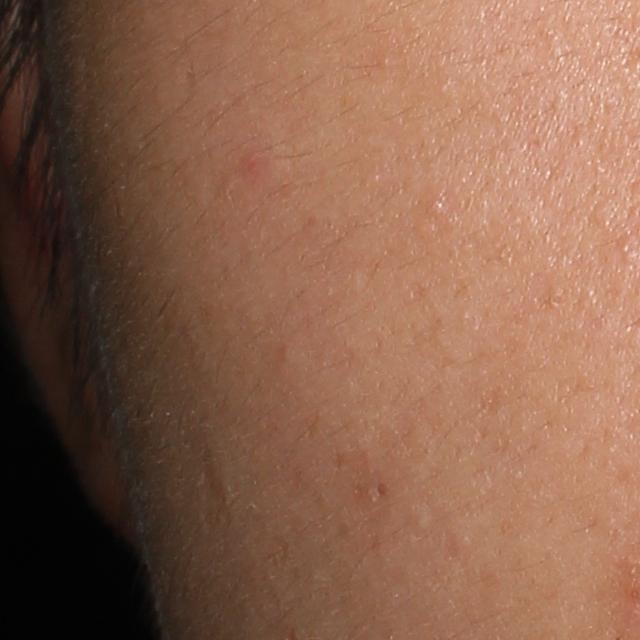comedo: (424, 195, 449, 216)
